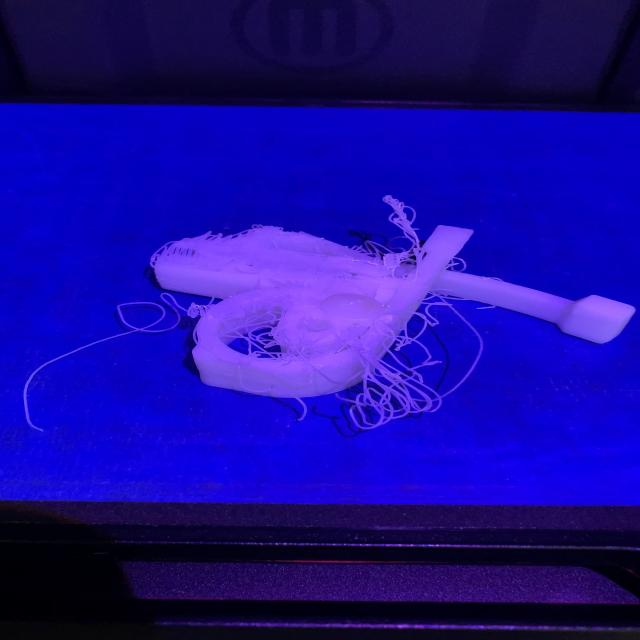spaghetti: (149, 200, 482, 433)
